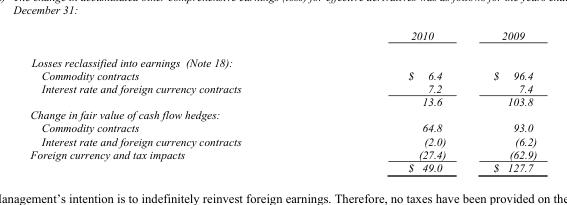table: (29, 28, 536, 173)
table column: (29, 28, 323, 173), (323, 28, 468, 173), (468, 28, 536, 173)
table column header: (29, 28, 536, 48)
table projected row header: (29, 48, 536, 68), (29, 108, 536, 121)
table row: (29, 28, 536, 48), (29, 48, 536, 68), (29, 94, 536, 108), (29, 68, 536, 81), (29, 81, 536, 94), (29, 108, 536, 121), (29, 121, 536, 134), (29, 134, 536, 147), (29, 147, 536, 160), (29, 160, 536, 173)
